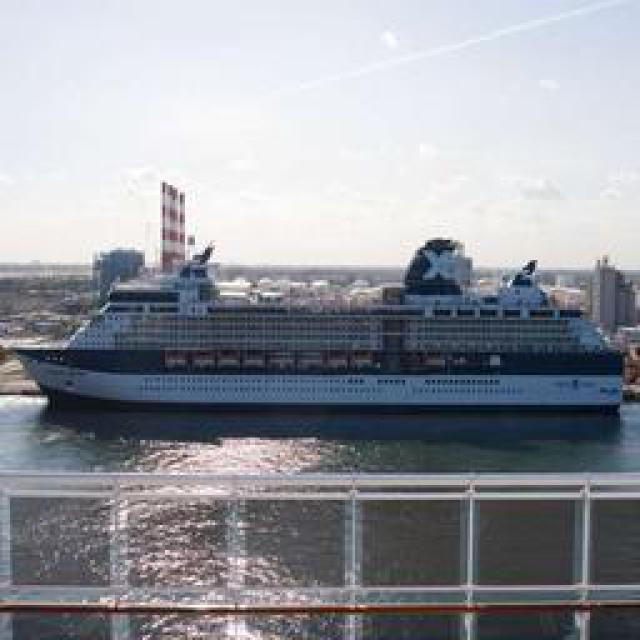Ship: (12, 246, 632, 424)
